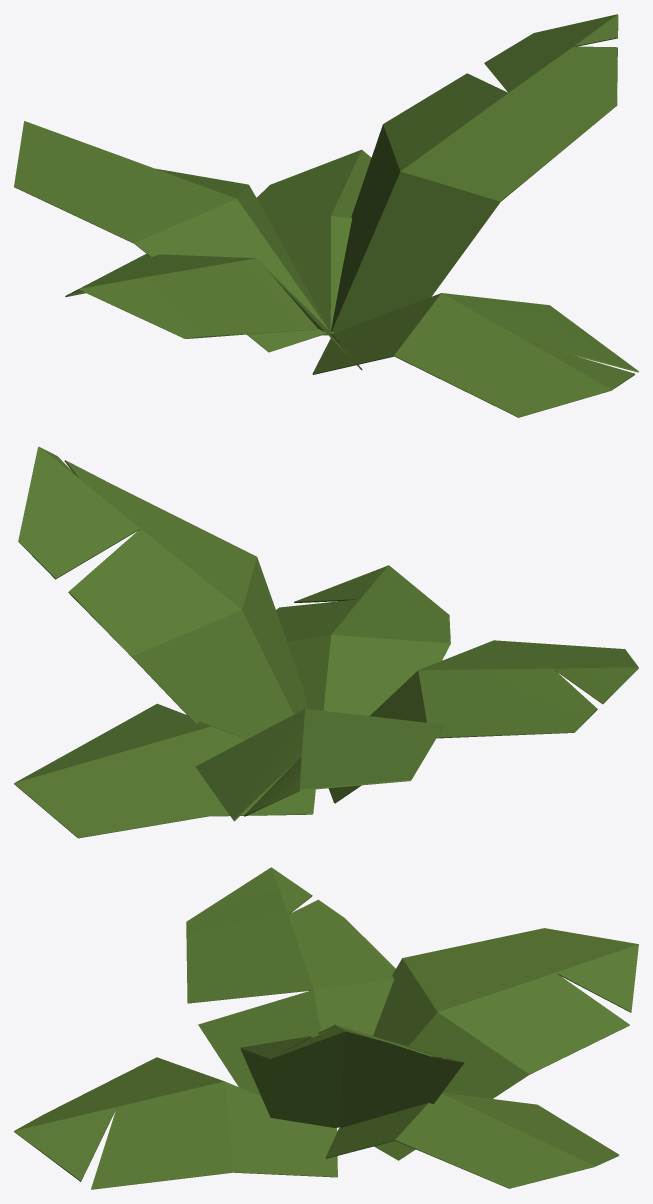
File: SM_RF_LeafyPlant_01.fbx
3 renders of one model, top to bottom at view 1: azimuth 30°, elevation 25°; view 2: azimuth 150°, elevation 25°; view 3: azimuth 270°, elevation 25°, orthographic. The views are drawn at different scales.
Parts seen in each view (by area): view 1: SM_RF_LeafyPlant_01; view 2: SM_RF_LeafyPlant_01; view 3: SM_RF_LeafyPlant_01.
Part boxes in pixels (bbox=[...]): SM_RF_LeafyPlant_01: bbox=[14, 14, 638, 417]; SM_RF_LeafyPlant_01: bbox=[14, 446, 638, 838]; SM_RF_LeafyPlant_01: bbox=[14, 867, 638, 1189].
Bounding box in the file's own units: 165 × 74.9 × 169.
